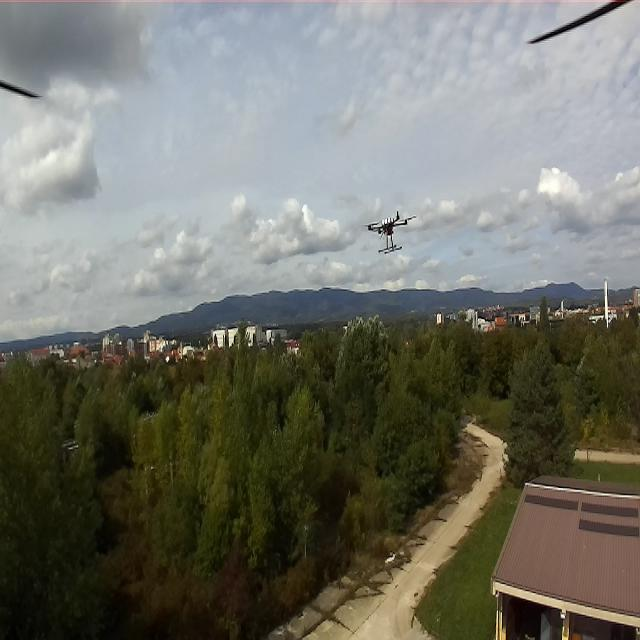UAV: (361, 202, 417, 260)
